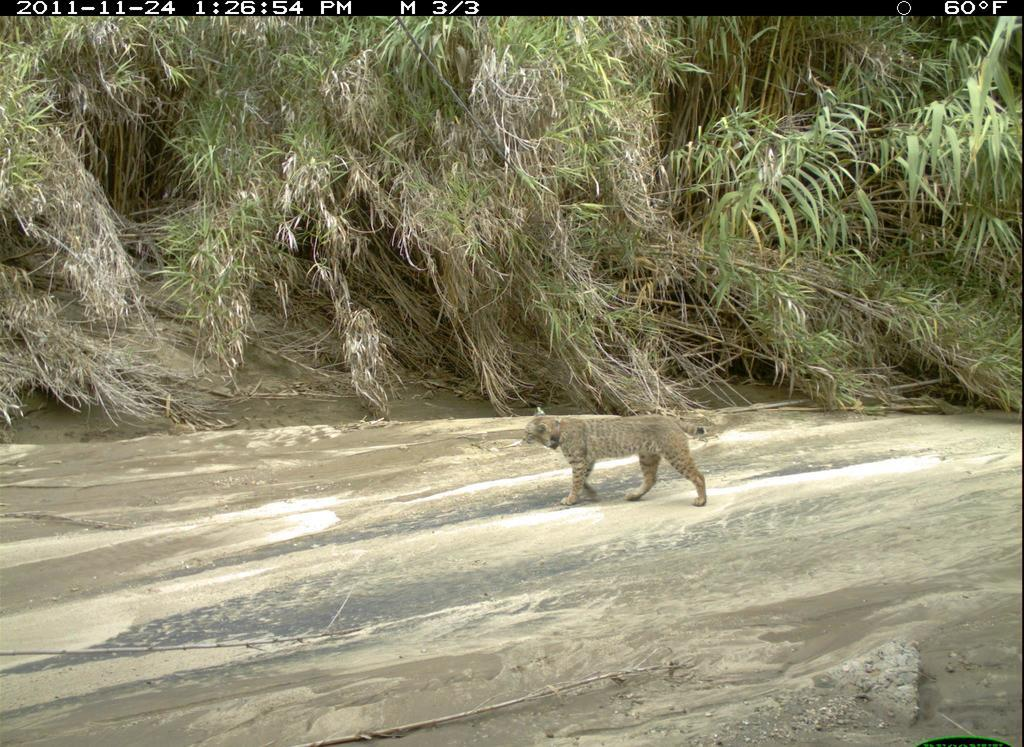bobcat: (515, 408, 720, 514)
